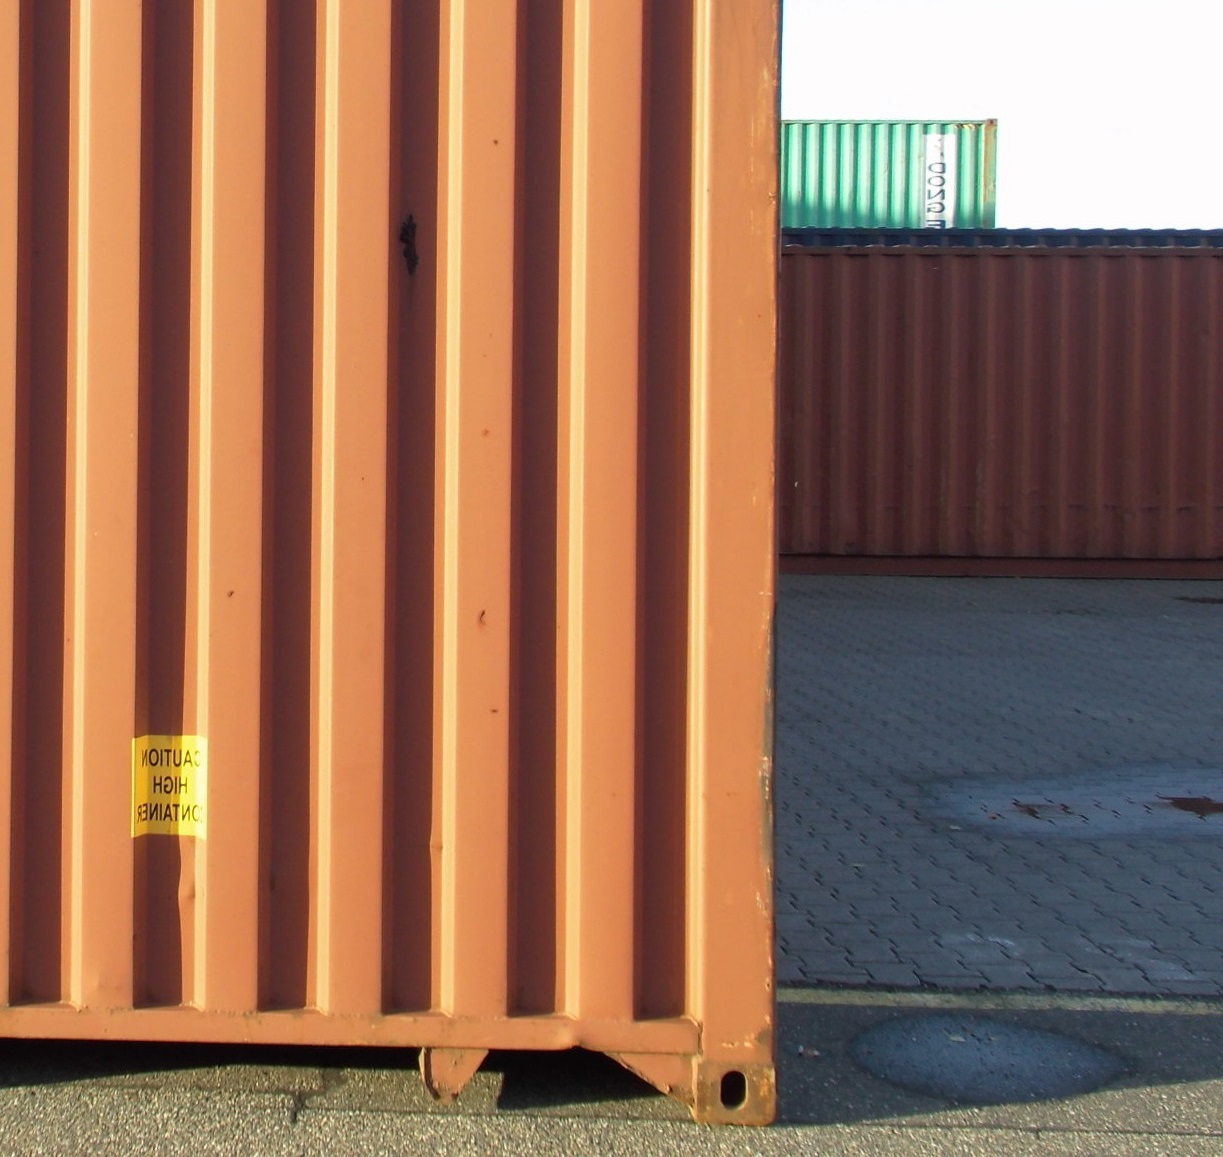container_no_door: (12, 4, 789, 1106)
